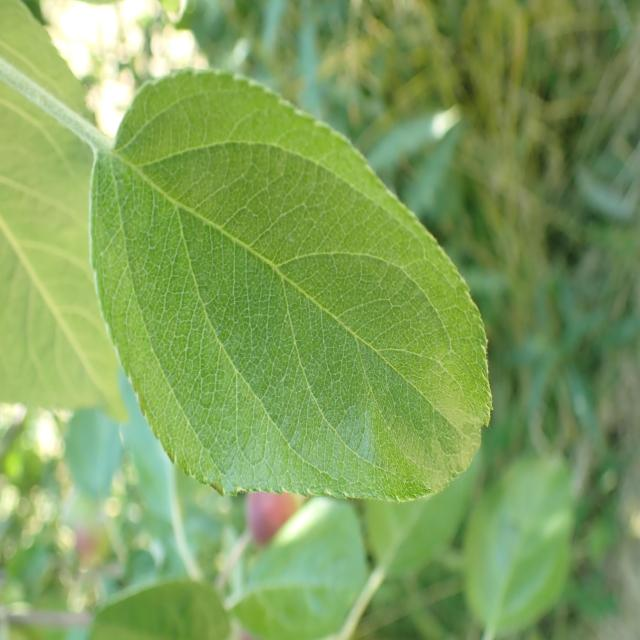healthy: (90, 66, 492, 504), (0, 1, 128, 422)
